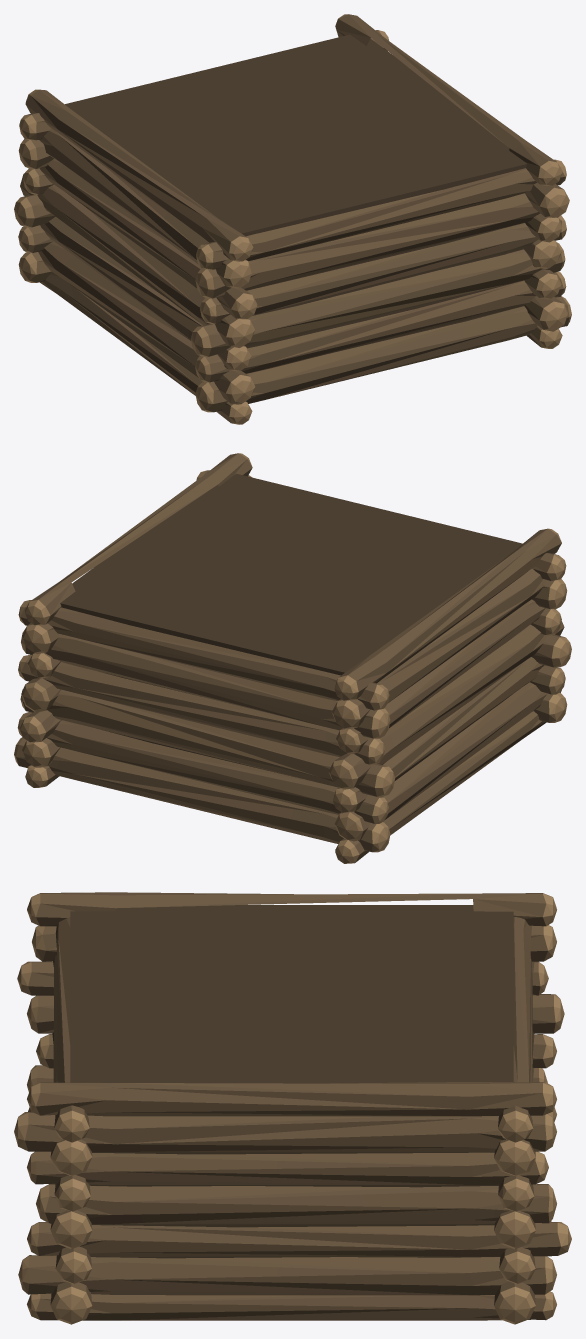
3 views of the same model, one above another, from view 1: azimuth 30°, elevation 25°; view 2: azimuth 150°, elevation 25°; view 3: azimuth 270°, elevation 25° (orthographic). The views are drawn at different scales.
Visible parts, largest first — view 1: SM_Bld_Base_01; view 2: SM_Bld_Base_01; view 3: SM_Bld_Base_01.
Part boxes in pixels (x1,y1,x2,y2): SM_Bld_Base_01: (14, 14, 571, 424); SM_Bld_Base_01: (14, 453, 571, 863); SM_Bld_Base_01: (14, 892, 571, 1324).
Size of the model in its own units: 4.95 by 2.38 by 5.09.
1 material, 1 textured.
